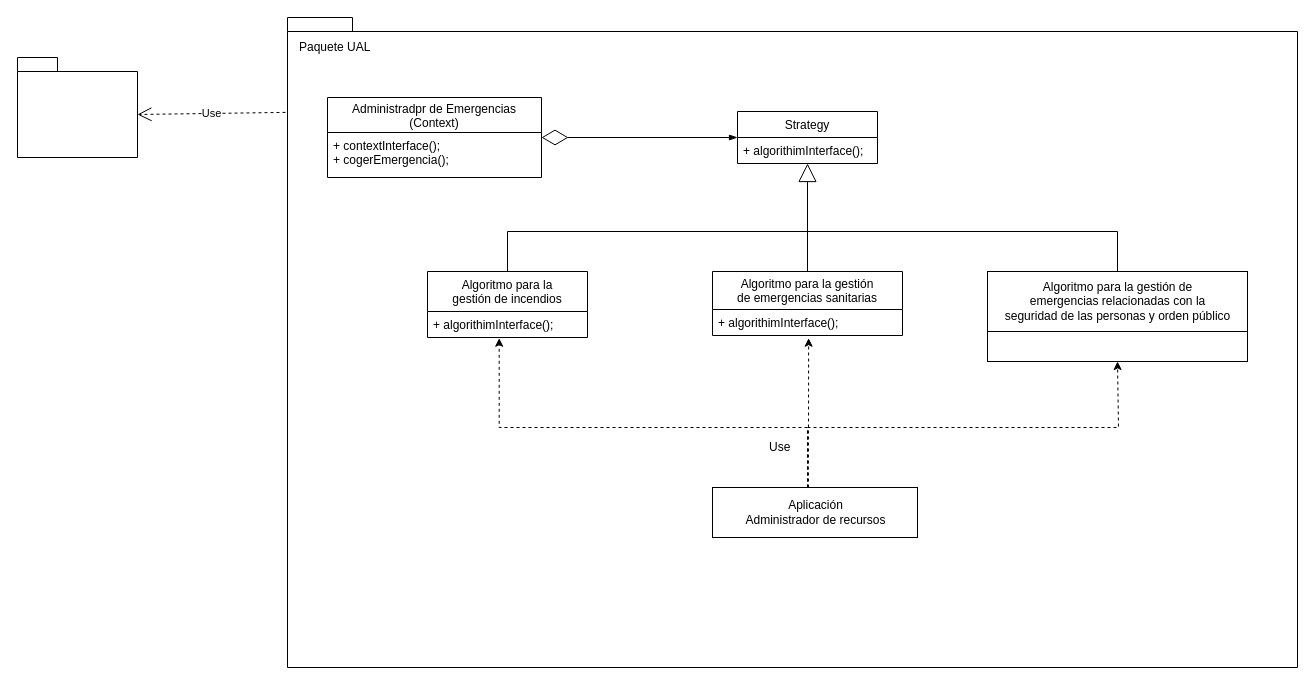
This 1315x685 diagram has some shape labels left out. The shapes that lost their labels are listed below. From the top down, each one's centre as x and y in pixels, then its label:
(77,107): Gestion de Alertas
(1117,346): +algorithimInterface();
